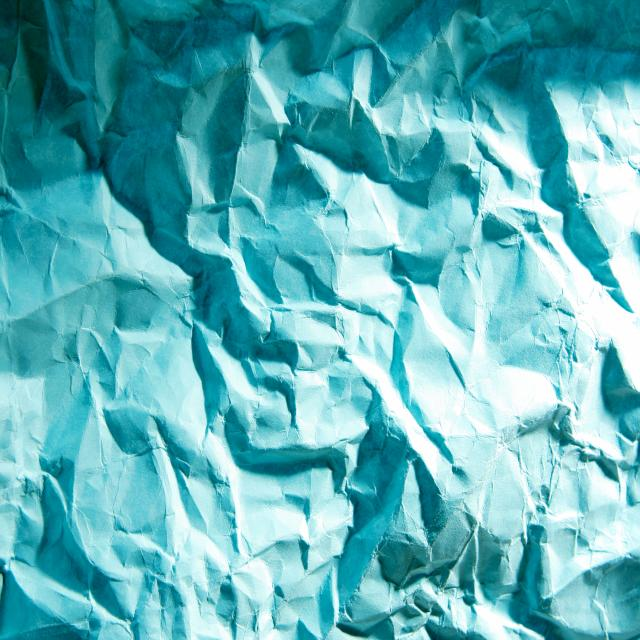paper: (188, 128, 517, 576)
